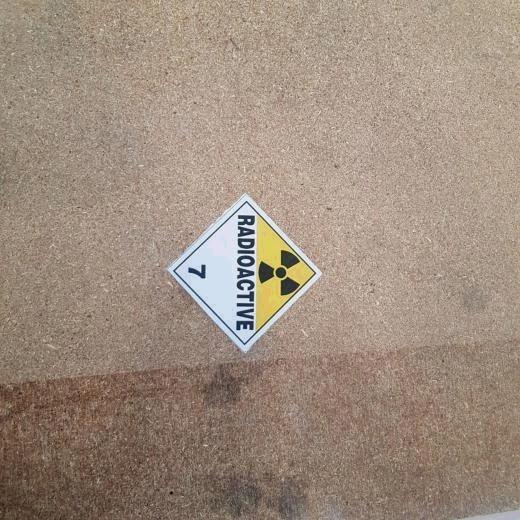radioactive: (166, 194, 322, 353)
